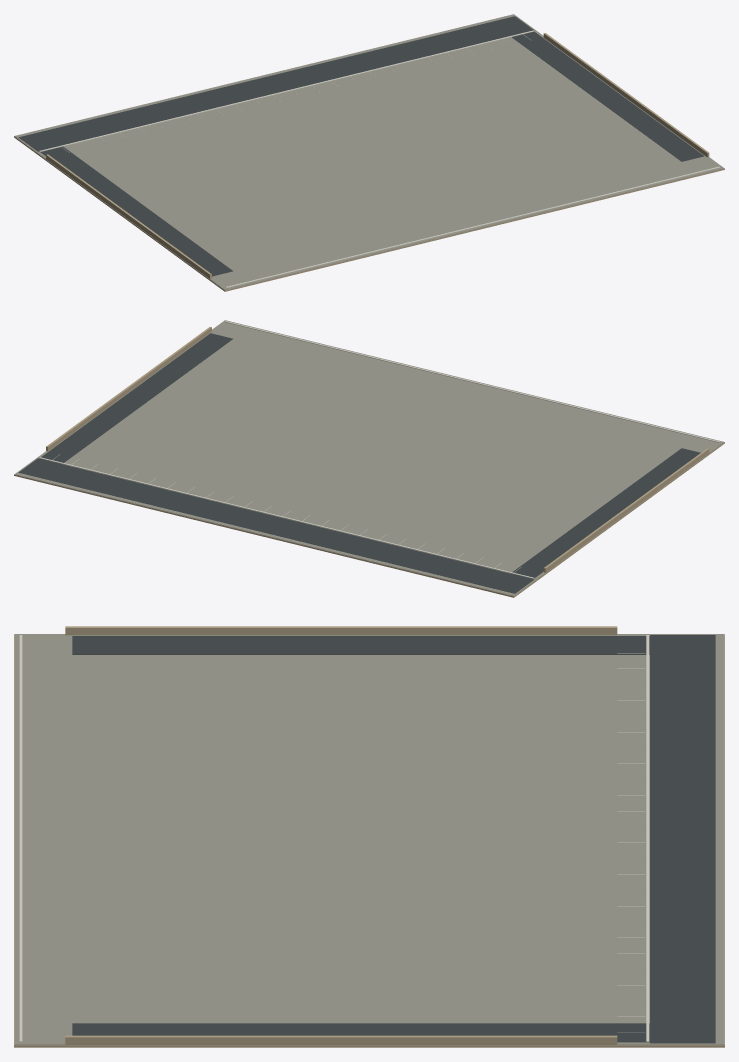
The model's file is KOL_T1_URBANA__Foundation.fbx.
3 views of the same model, one above another, from view 1: azimuth 30°, elevation 25°; view 2: azimuth 150°, elevation 25°; view 3: azimuth 270°, elevation 25° (orthographic). The views are drawn at different scales.
Visible parts, largest first — view 1: KOL_T1_URBANA__Foundation__KOL_T1_Paving, KOL_T1_URBANA__Foundation__KOL_T1_Asphalt, KOL_T1_URBANA__Foundation__KOL_T1_Stone, KOL_T1_URBANA__Foundation__KOL_T1_Pearl; view 2: KOL_T1_URBANA__Foundation__KOL_T1_Paving, KOL_T1_URBANA__Foundation__KOL_T1_Asphalt, KOL_T1_URBANA__Foundation__KOL_T1_Stone, KOL_T1_URBANA__Foundation__KOL_T1_Pearl; view 3: KOL_T1_URBANA__Foundation__KOL_T1_Paving, KOL_T1_URBANA__Foundation__KOL_T1_Asphalt, KOL_T1_URBANA__Foundation__KOL_T1_Stone, KOL_T1_URBANA__Foundation__KOL_T1_Pearl.
Part boxes in pixels (bbox=[...]): KOL_T1_URBANA__Foundation__KOL_T1_Paving: bbox=[15, 14, 724, 290]; KOL_T1_URBANA__Foundation__KOL_T1_Asphalt: bbox=[19, 16, 704, 276]; KOL_T1_URBANA__Foundation__KOL_T1_Stone: bbox=[14, 33, 724, 291]; KOL_T1_URBANA__Foundation__KOL_T1_Pearl: bbox=[39, 30, 720, 288]; KOL_T1_URBANA__Foundation__KOL_T1_Paving: bbox=[14, 320, 723, 596]; KOL_T1_URBANA__Foundation__KOL_T1_Asphalt: bbox=[19, 333, 700, 593]; KOL_T1_URBANA__Foundation__KOL_T1_Stone: bbox=[14, 327, 724, 597]; KOL_T1_URBANA__Foundation__KOL_T1_Pearl: bbox=[39, 321, 719, 578]; KOL_T1_URBANA__Foundation__KOL_T1_Paving: bbox=[14, 634, 724, 1044]; KOL_T1_URBANA__Foundation__KOL_T1_Asphalt: bbox=[72, 635, 715, 1043]; KOL_T1_URBANA__Foundation__KOL_T1_Stone: bbox=[14, 626, 724, 1047]; KOL_T1_URBANA__Foundation__KOL_T1_Pearl: bbox=[19, 635, 649, 1042].
Size of the model in its own units: 416 by 4.75 by 304.
